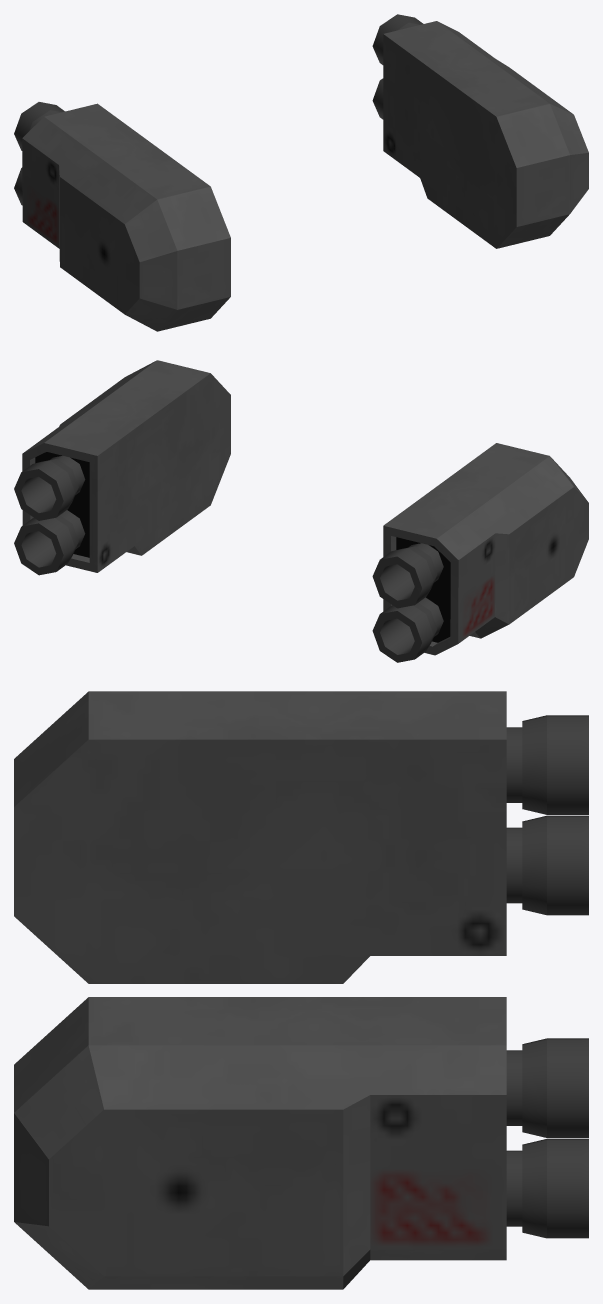
The model's file is Agent_Handheld_Spider_Vehicle.fbx.
The picture shows the model from 3 angles, top to bottom: view 1: azimuth 30°, elevation 25°; view 2: azimuth 150°, elevation 25°; view 3: azimuth 270°, elevation 25°; orthographic projection. The views are drawn at different scales.
Parts seen in each view (by area): view 1: GunBarrel_1; view 2: GunBarrel_1; view 3: GunBarrel_1.
Part boxes in pixels (x1,y1,x2,y2): GunBarrel_1: (14, 14, 588, 331); GunBarrel_1: (14, 360, 588, 662); GunBarrel_1: (14, 691, 588, 1289).
Size of the model in its own units: 0.8364 by 0.2352 by 0.5019.
